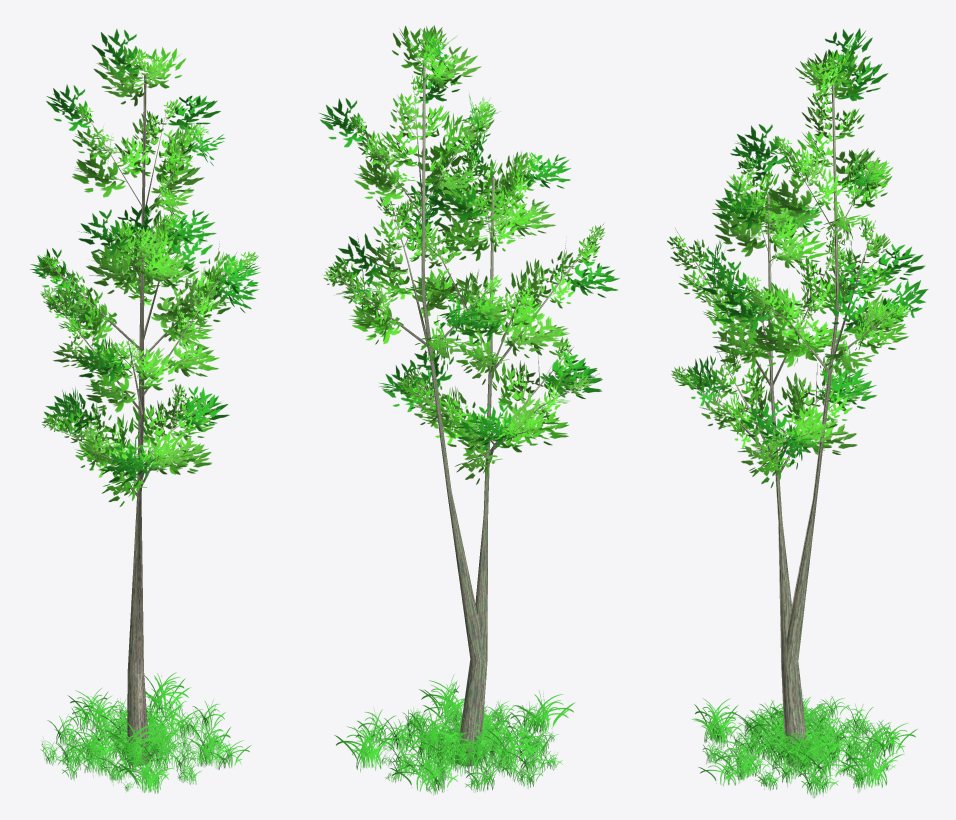
The model's file is tree-grass.glb.
3 renders of one model, left to right at view 1: azimuth 30°, elevation 25°; view 2: azimuth 150°, elevation 25°; view 3: azimuth 270°, elevation 25°, orthographic. The views are drawn at different scales.
Visible parts, largest first — view 1: tree00_jabami_mesh, bushgrass_jabami_mesh; view 2: tree00_jabami_mesh, bushgrass_jabami_mesh; view 3: tree00_jabami_mesh, bushgrass_jabami_mesh.
Part boxes in pixels (box(x1,y1,x2,y2)): tree00_jabami_mesh: box(30, 29, 260, 765); bushgrass_jabami_mesh: box(40, 672, 251, 793); tree00_jabami_mesh: box(319, 25, 619, 766); bushgrass_jabami_mesh: box(334, 674, 575, 795); tree00_jabami_mesh: box(667, 28, 928, 767); bushgrass_jabami_mesh: box(691, 691, 917, 797).
Bounding box in the file's own units: 5.73 × 18.07 × 6.19.
Materials: 5 (5 with a texture image).
